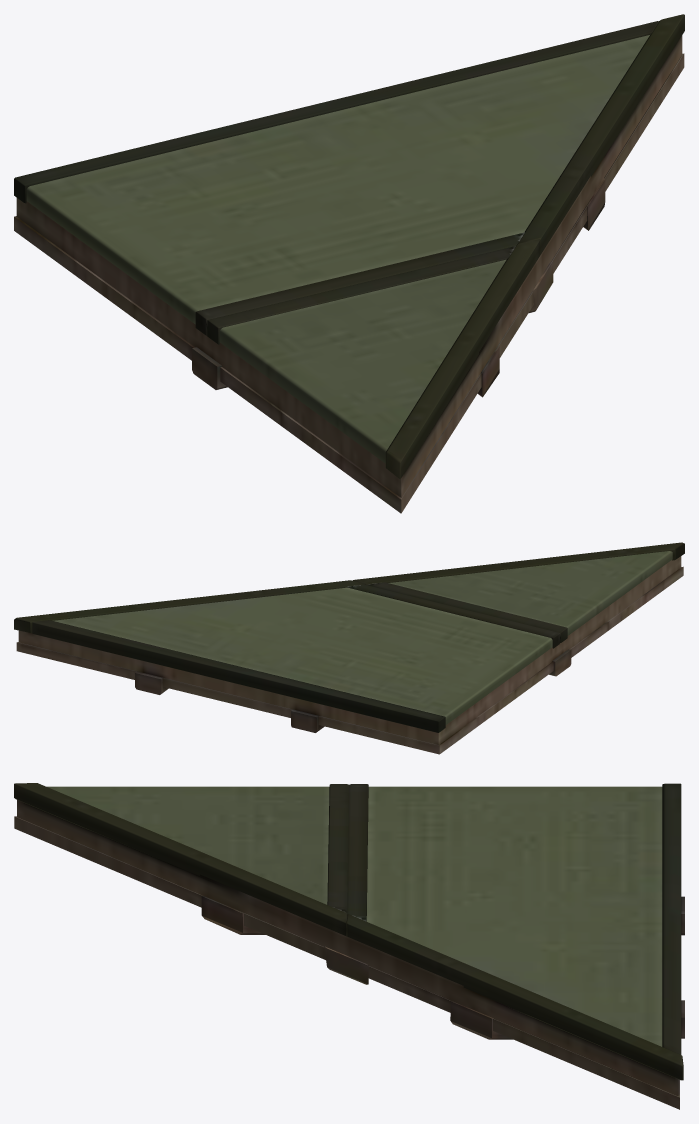
Rendered from Architecture_JapaneseStyle_RoofTriangle_cf557c.glb.
3 renders of one model, top to bottom at view 1: azimuth 30°, elevation 25°; view 2: azimuth 150°, elevation 25°; view 3: azimuth 270°, elevation 25°, orthographic. The views are drawn at different scales.
Size of the model in its own units: 4.03 by 0.3693 by 4.03.
1 material, 1 textured.
